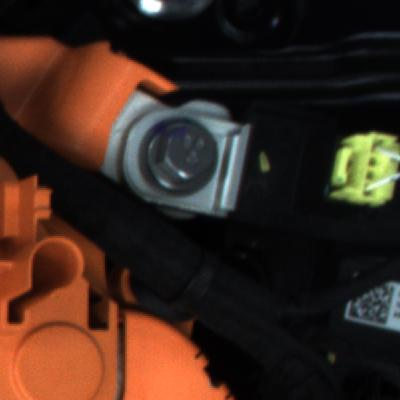nut_b: (134, 115, 225, 198)
